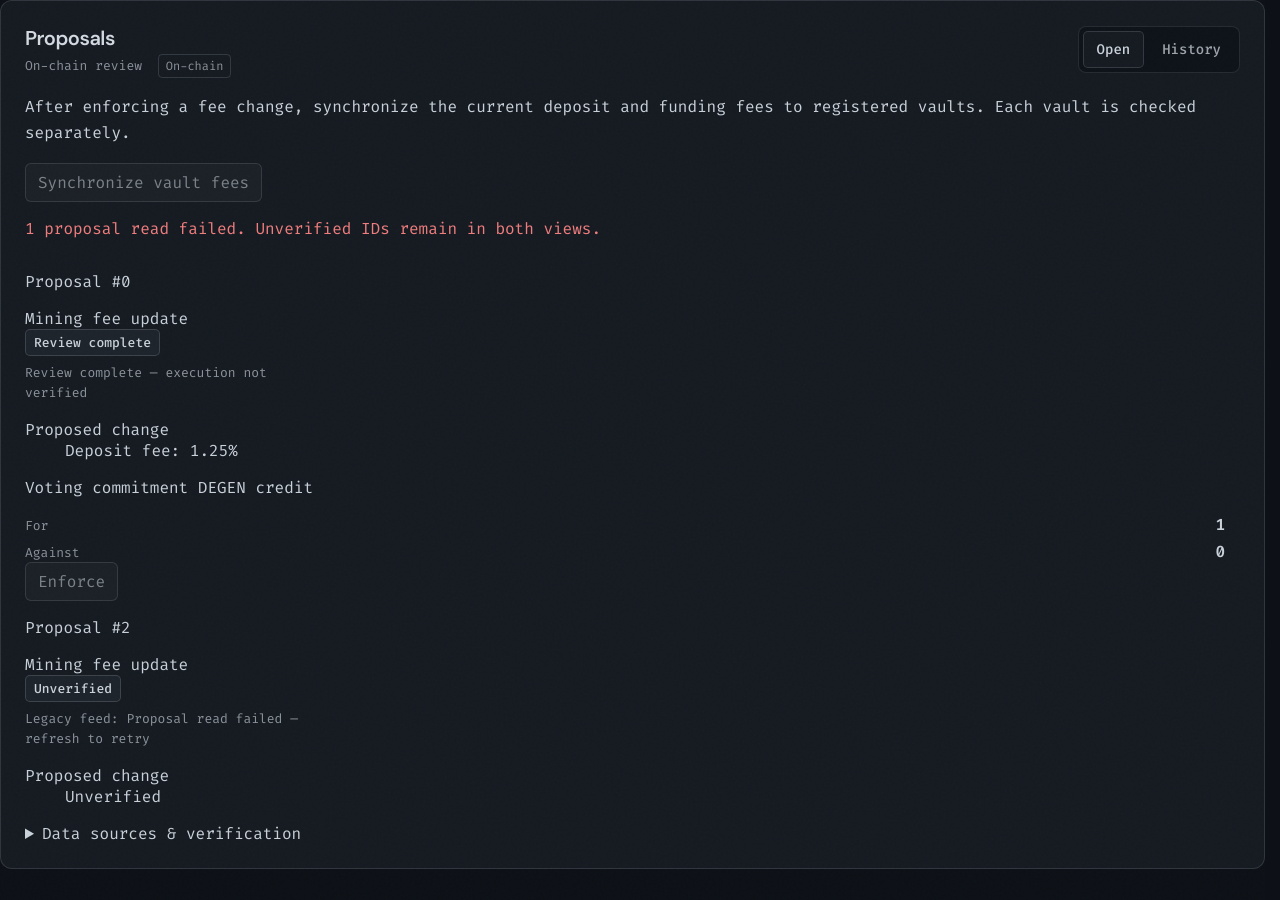
Scenario: Parameter proposal views › shows fee types and partial failures without putting finished proposals in Open
This screenshot has width=1280, height=900.
Check: the text "Deposit fee: 1.25%" is shown, box [65,440,238,461]
Check: the text "Referral bonus: 5%" is not shown
Click the button "History" at {"x": 1192, "y": 50}, box [1148,31,1235,68]
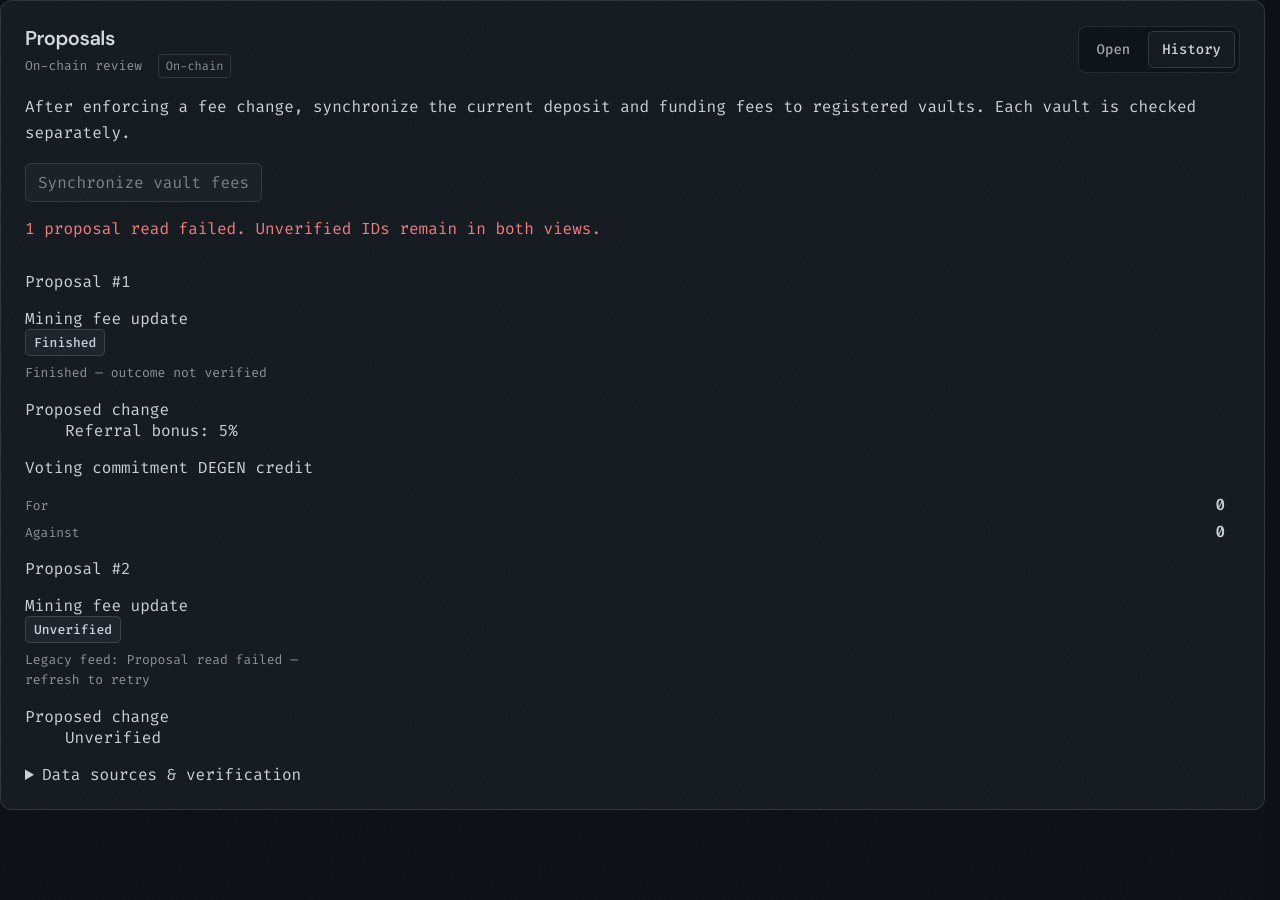
Check: the text "Referral bonus: 5%" is shown, box [65,420,238,441]
Check: the text "Deposit fee: 1.25%" is gone
Check: the text "Finished — outcome not verified" is shown, box [25,363,267,383]
